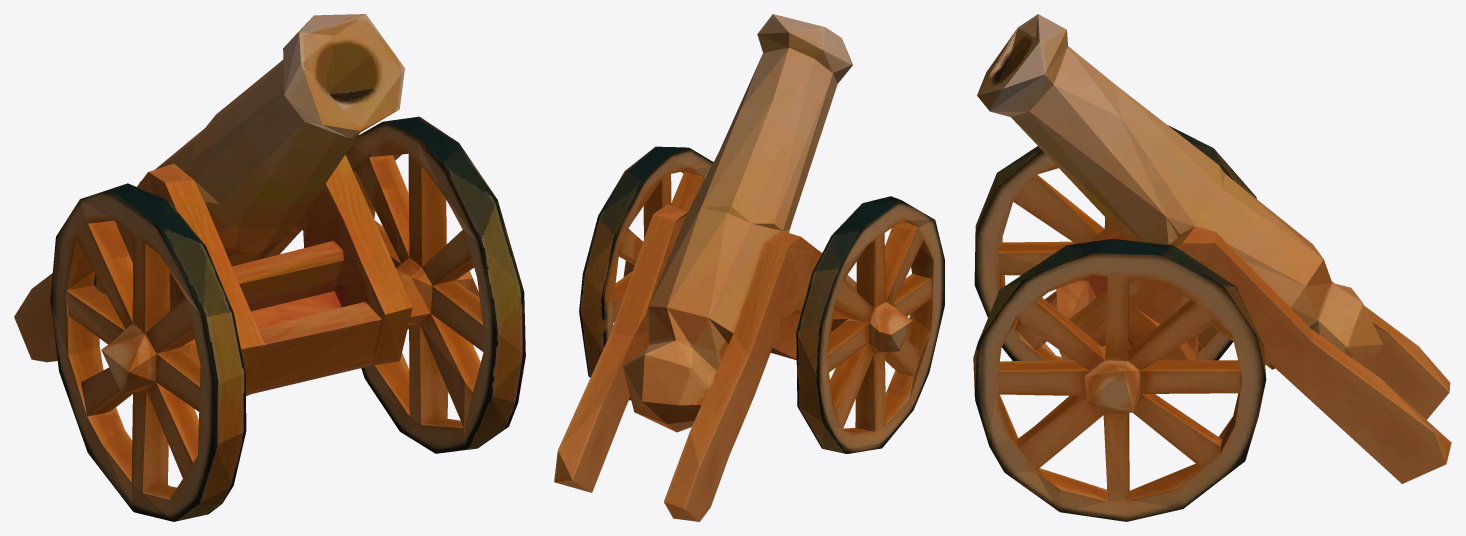
The model's file is siege_cannon.glb.
3 views of the same model, side by side, from view 1: azimuth 30°, elevation 25°; view 2: azimuth 150°, elevation 25°; view 3: azimuth 270°, elevation 25° (orthographic). The views are drawn at different scales.
Size of the model in its own units: 1.49 by 1.96 by 1.98.
Materials: 1 (1 with a texture image).
